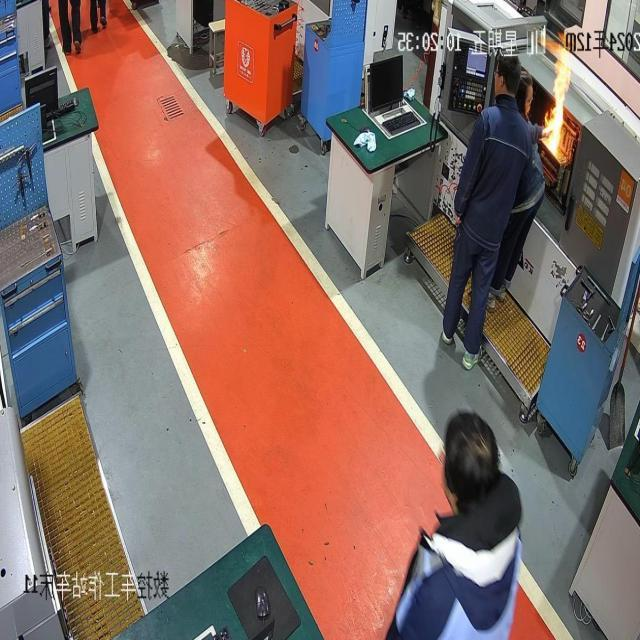smoke: (542, 41, 571, 160)
